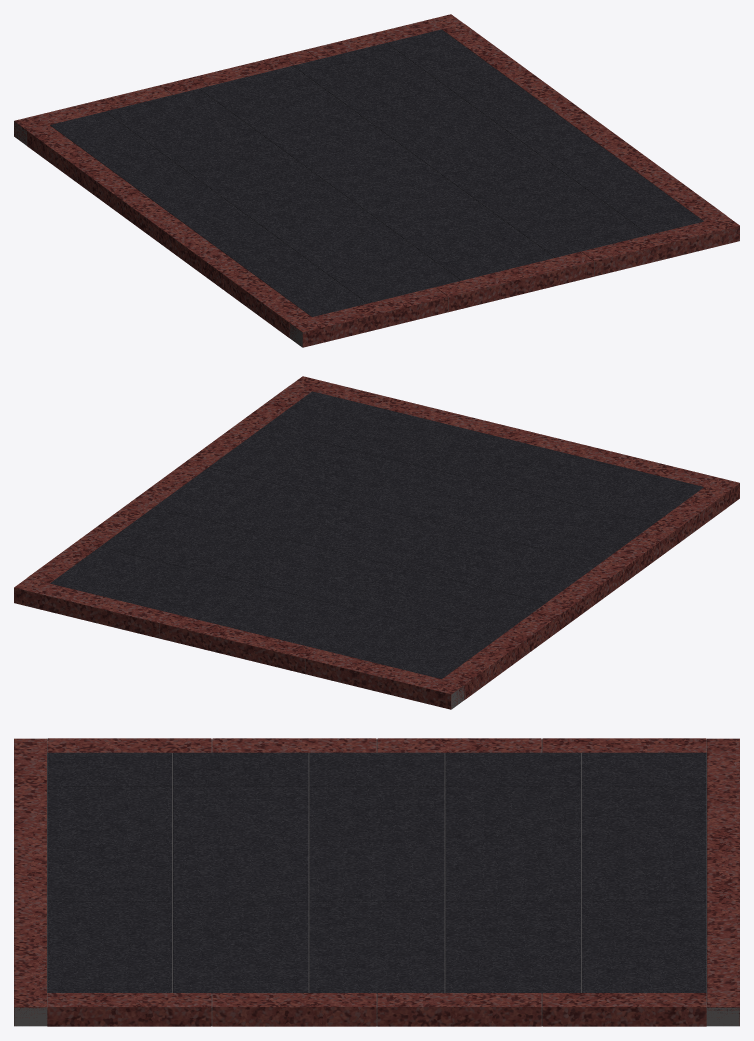
File: floor-bordo-wide.glb
The picture shows the model from 3 angles, top to bottom: view 1: azimuth 30°, elevation 25°; view 2: azimuth 150°, elevation 25°; view 3: azimuth 270°, elevation 25°; orthographic projection. The views are drawn at different scales.
Parts seen in each view (by area): view 1: Stone_field_bordo, Stone_edge_bordo; view 2: Stone_field_bordo, Stone_edge_bordo; view 3: Stone_field_bordo, Stone_edge_bordo, Joint_and_bedding_bordo.
Part boxes in pixels (x1,y1,x2,y2): Stone_field_bordo: (50, 29, 703, 316); Stone_edge_bordo: (14, 14, 739, 347); Stone_field_bordo: (50, 391, 703, 678); Stone_edge_bordo: (14, 376, 739, 709); Stone_field_bordo: (47, 752, 706, 993); Stone_edge_bordo: (14, 738, 739, 1026); Joint_and_bedding_bordo: (14, 739, 739, 1026).
Size of the model in its own units: 2.8 by 0.096 by 3.2.
3 materials, 2 textured.
